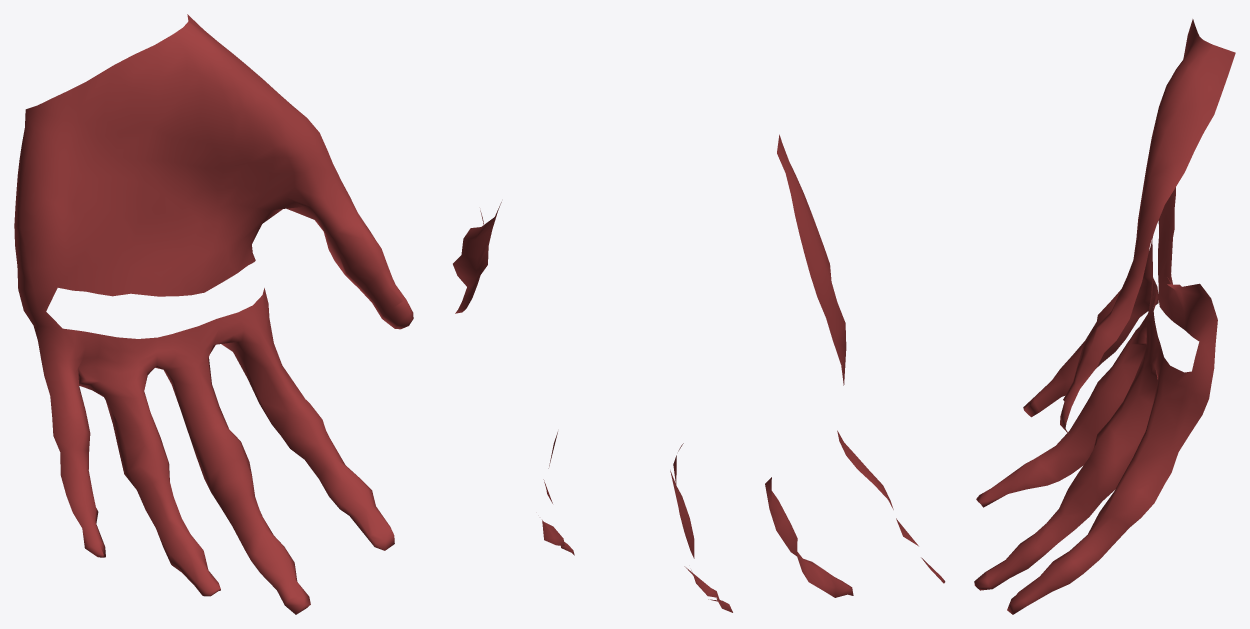
The model's file is palmar-aponeurosis-l.glb.
3 renders of one model, left to right at view 1: azimuth 30°, elevation 25°; view 2: azimuth 150°, elevation 25°; view 3: azimuth 270°, elevation 25°, orthographic. The views are drawn at different scales.
Parts seen in each view (by area): view 1: Palmar aponeurosis.l; view 2: Palmar aponeurosis.l; view 3: Palmar aponeurosis.l.
Part boxes in pixels (x1,y1,x2,y2): Palmar aponeurosis.l: [14, 14, 413, 614]; Palmar aponeurosis.l: [453, 134, 945, 612]; Palmar aponeurosis.l: [974, 19, 1235, 614].
Size of the model in its own units: 0.1093 by 0.1561 by 0.0681.
